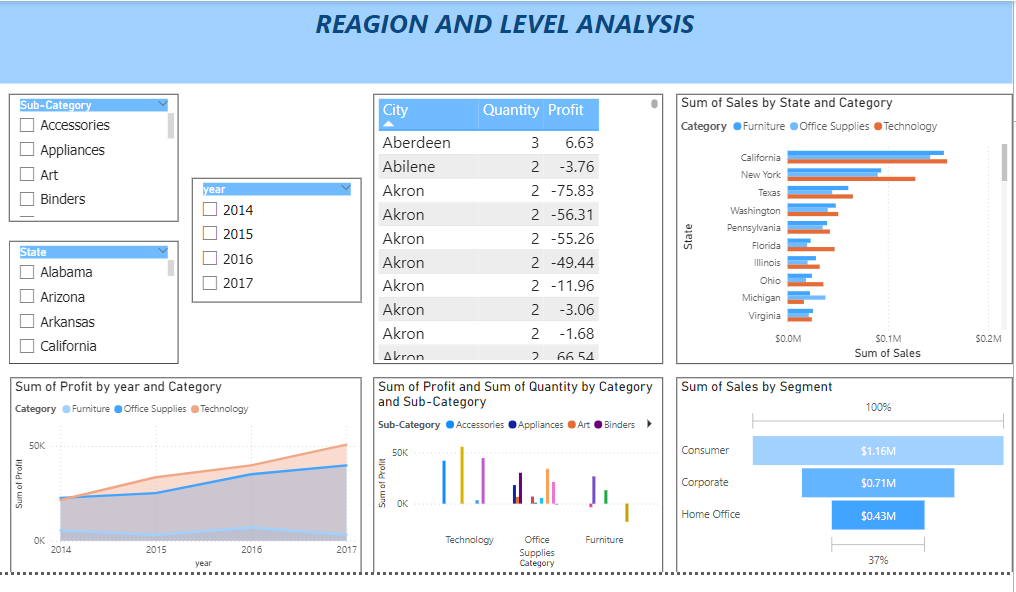

Layout of this report page (visuals, bound fields, positions):
{"tool":"powerbi","page":{"name":"Page 2","canvas":[1280,720],"ordinal":1},"visuals":[{"type":"slicer","fields":{"Values":["Orders.Sub-Category"]},"box":[15.1,117.2,213.5,160.6],"z":0},{"type":"slicer","fields":{"Values":["Orders.State"]},"box":[15.1,302.4,213.5,155],"z":1000},{"type":"slicer","fields":{"Values":["Orders.year"]},"box":[245.7,223,213.5,156.9],"z":2000},{"type":"tableEx","fields":{"Values":["Orders.City","Orders.Quantity","Orders.Profit"]},"box":[474.3,117.2,364.7,340.2],"z":3000},{"type":"clusteredBarChart","fields":{"Series":["Orders.Category"],"Category":["Orders.State"],"Y":["Sum(Orders.Sales)"]},"box":[856.1,117.2,423.3,340.2],"z":4000},{"type":"areaChart","fields":{"Category":["Orders.year"],"Series":["Orders.Category"],"Y":["Sum(Orders.Profit)"]},"box":[17,474.3,442.2,245.7],"z":5000},{"type":"lineClusteredColumnComboChart","fields":{"Category":["Orders.Category"],"Series":["Orders.Sub-Category"],"Y":["Sum(Orders.Profit)"]},"box":[474.3,474.3,364.7,245.7],"z":6000},{"type":"funnel","fields":{"Category":["Orders.Segment"],"Y":["Sum(Orders.Sales)"]},"box":[856,474,423,246],"z":7000},{"type":"textbox","box":[0,0,1279.4,103.9],"z":8000}]}

Visuals, with their boxes in screenshot pixels (x1, y1, x2, y2):
slicer - Orders.Sub-Category: [left=17, top=100, right=184, bottom=225]
slicer - Orders.State: [left=17, top=245, right=184, bottom=366]
slicer - Orders.year: [left=198, top=182, right=365, bottom=305]
tableEx - Orders.City x Orders.Quantity: [left=377, top=100, right=662, bottom=366]
clusteredBarChart - Orders.Category x Orders.State: [left=675, top=100, right=1007, bottom=366]
areaChart - Orders.year x Orders.Category: [left=19, top=379, right=365, bottom=572]
lineClusteredColumnComboChart - Orders.Category x Orders.Sub-Category: [left=377, top=379, right=662, bottom=572]
funnel - Orders.Segment x Sum(Orders.Sales): [left=675, top=379, right=1006, bottom=572]
textbox: [left=5, top=8, right=1007, bottom=89]
